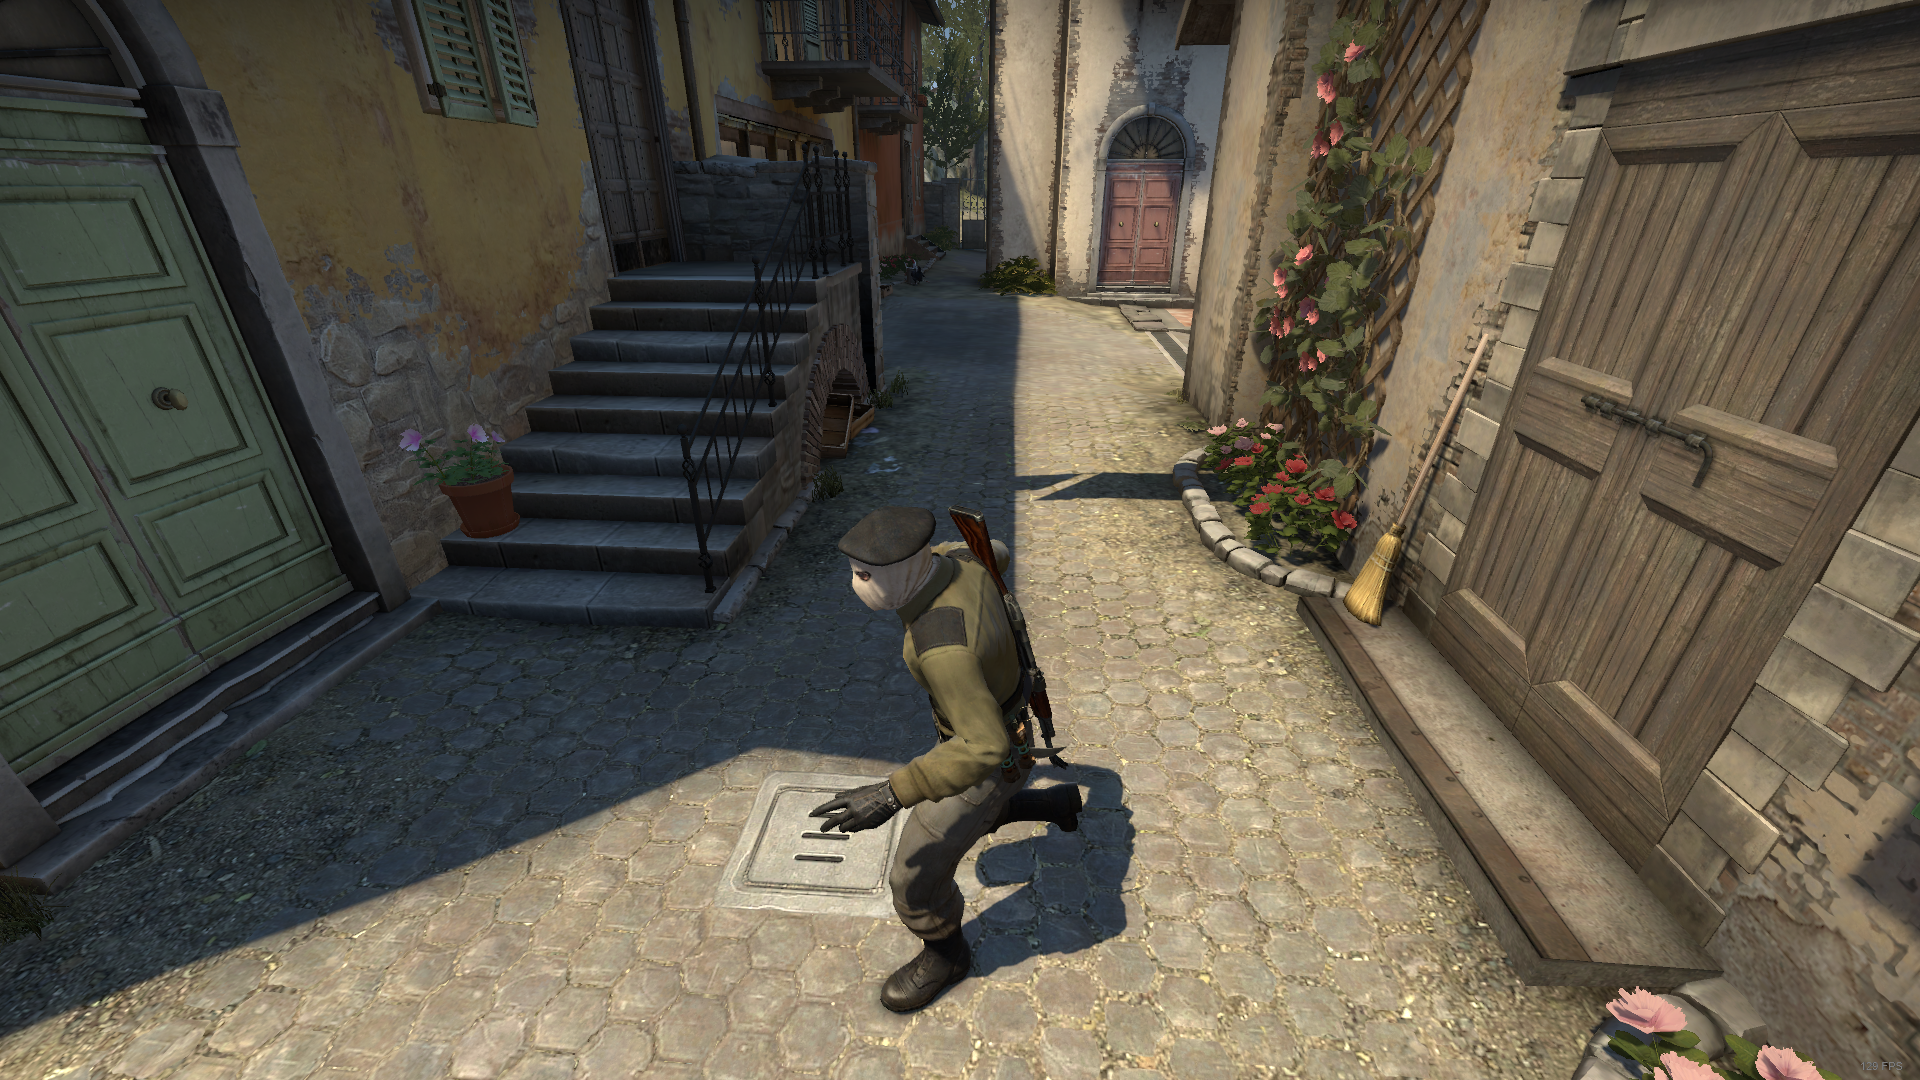t: (808, 502, 1077, 1013)
